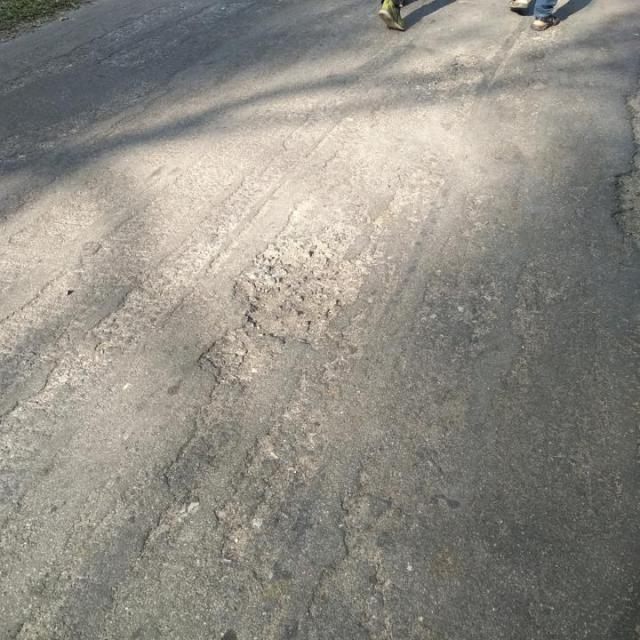pothole: (235, 239, 372, 341), (199, 332, 262, 382)
